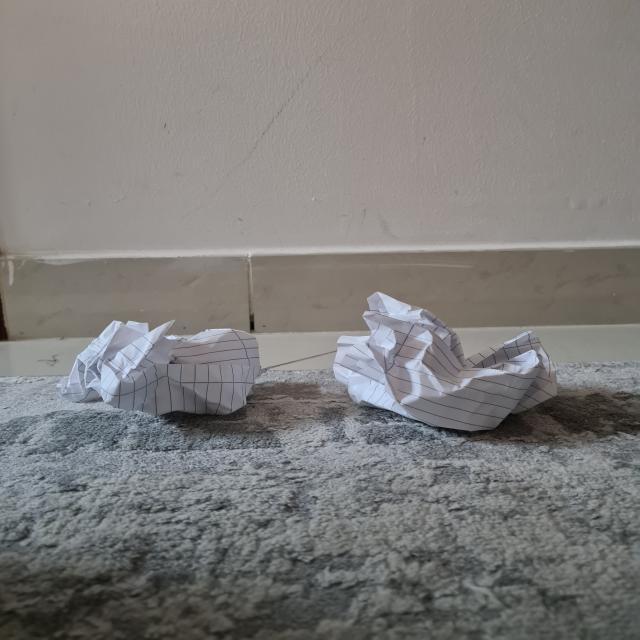Paper: (338, 299, 539, 434), (63, 322, 254, 412)
